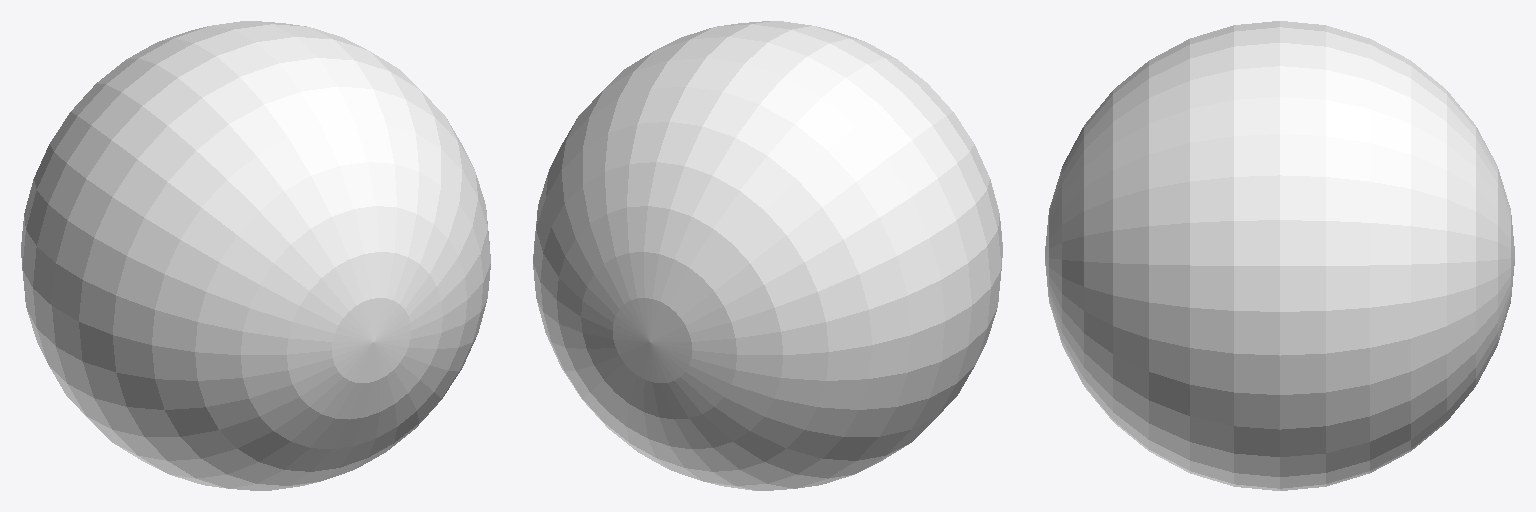
robot.urdf — sphere:
<?xml version="1.0" ?>
<robot name="sphere">

  <material name="white">
    <color rgba="1 1 1 1"/>
  </material>

  <link name="root">
    <inertial>
      <mass value="0.1"/>
      <origin rpy="0 0 0" xyz="0 0 0.03"/>
      <inertia ixx="1" ixy="0" ixz="0" iyy="1" iyz="0" izz="1"/>
    </inertial>
    <visual>
      <origin rpy="1.57079632679 0 0" xyz="0 0 0"/>
      <geometry>
        <sphere radius="0.5"/>
        <!-- <box size="0.05 0.05 0.05"/> -->
      </geometry>
      <material name="white"/>
    </visual>
    <collision>
      <origin rpy="1.57079632679 0 0" xyz="0 0 0"/>
      <geometry>
        <sphere radius="0.5"/>
        <!-- <box size="0.05 0.05 0.05"/> -->
      </geometry>
    </collision>
  </link>
</robot>

--- What the picture shows (computed from the rendered views, not written in the file) ---
The picture shows the robot from 3 angles, left to right: view 1: azimuth 30°, elevation 25°; view 2: azimuth 150°, elevation 25°; view 3: azimuth 270°, elevation 25°; orthographic projection.
Model sphere with 1 links and 0 joints (none), rooted at root, posed all joints at 0.
Links seen in each view (by area): view 1: root; view 2: root; view 3: root.
Link boxes in pixels (<box>): root: <box>21,21,490,490</box>; root: <box>533,21,1002,490</box>; root: <box>1045,21,1514,490</box>.
Bounding box of the posed robot: 1 × 1 × 1 m (x, y, z).
Geometry: primitives only (box / cylinder / sphere), no mesh files.